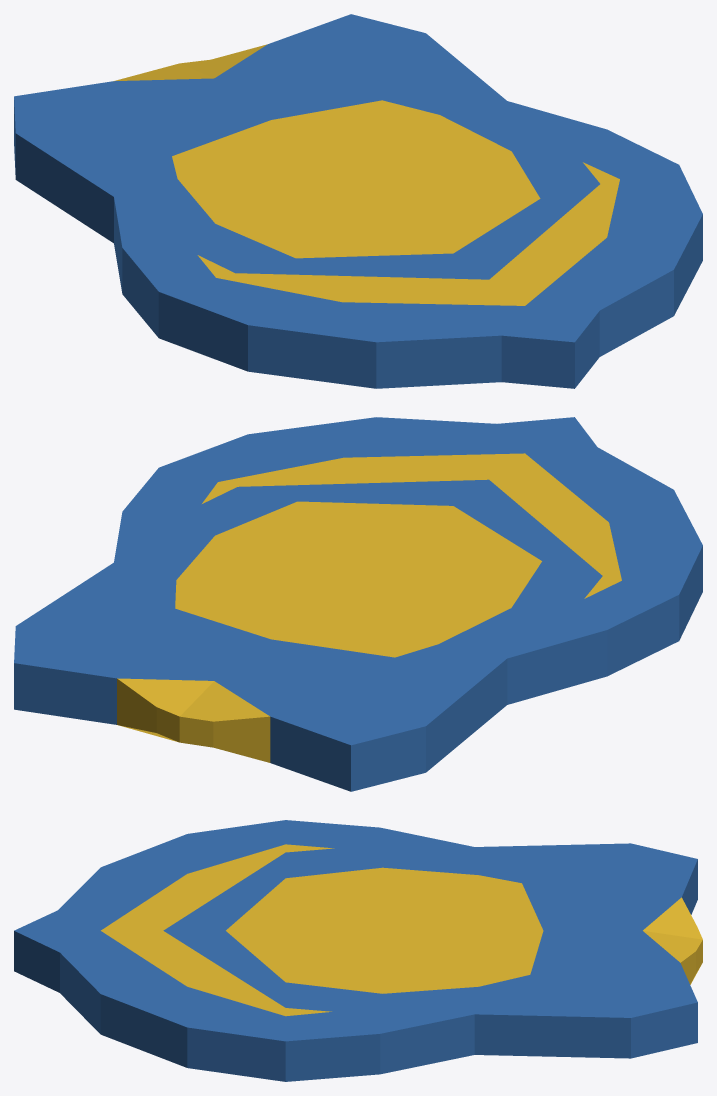
The model's file is Clue_badge.fbx.
The picture shows the model from 3 angles, top to bottom: view 1: azimuth 30°, elevation 25°; view 2: azimuth 150°, elevation 25°; view 3: azimuth 270°, elevation 25°; orthographic projection. The views are drawn at different scales.
Parts seen in each view (by area): view 1: Clue_badge; view 2: Clue_badge; view 3: Clue_badge.
Boxes of the visible parts, bbox=[...] form: Clue_badge: bbox=[14, 14, 702, 388]; Clue_badge: bbox=[14, 417, 702, 791]; Clue_badge: bbox=[14, 820, 702, 1081].
Bounding box in the file's own units: 26.8 × 2.29 × 35.24.
